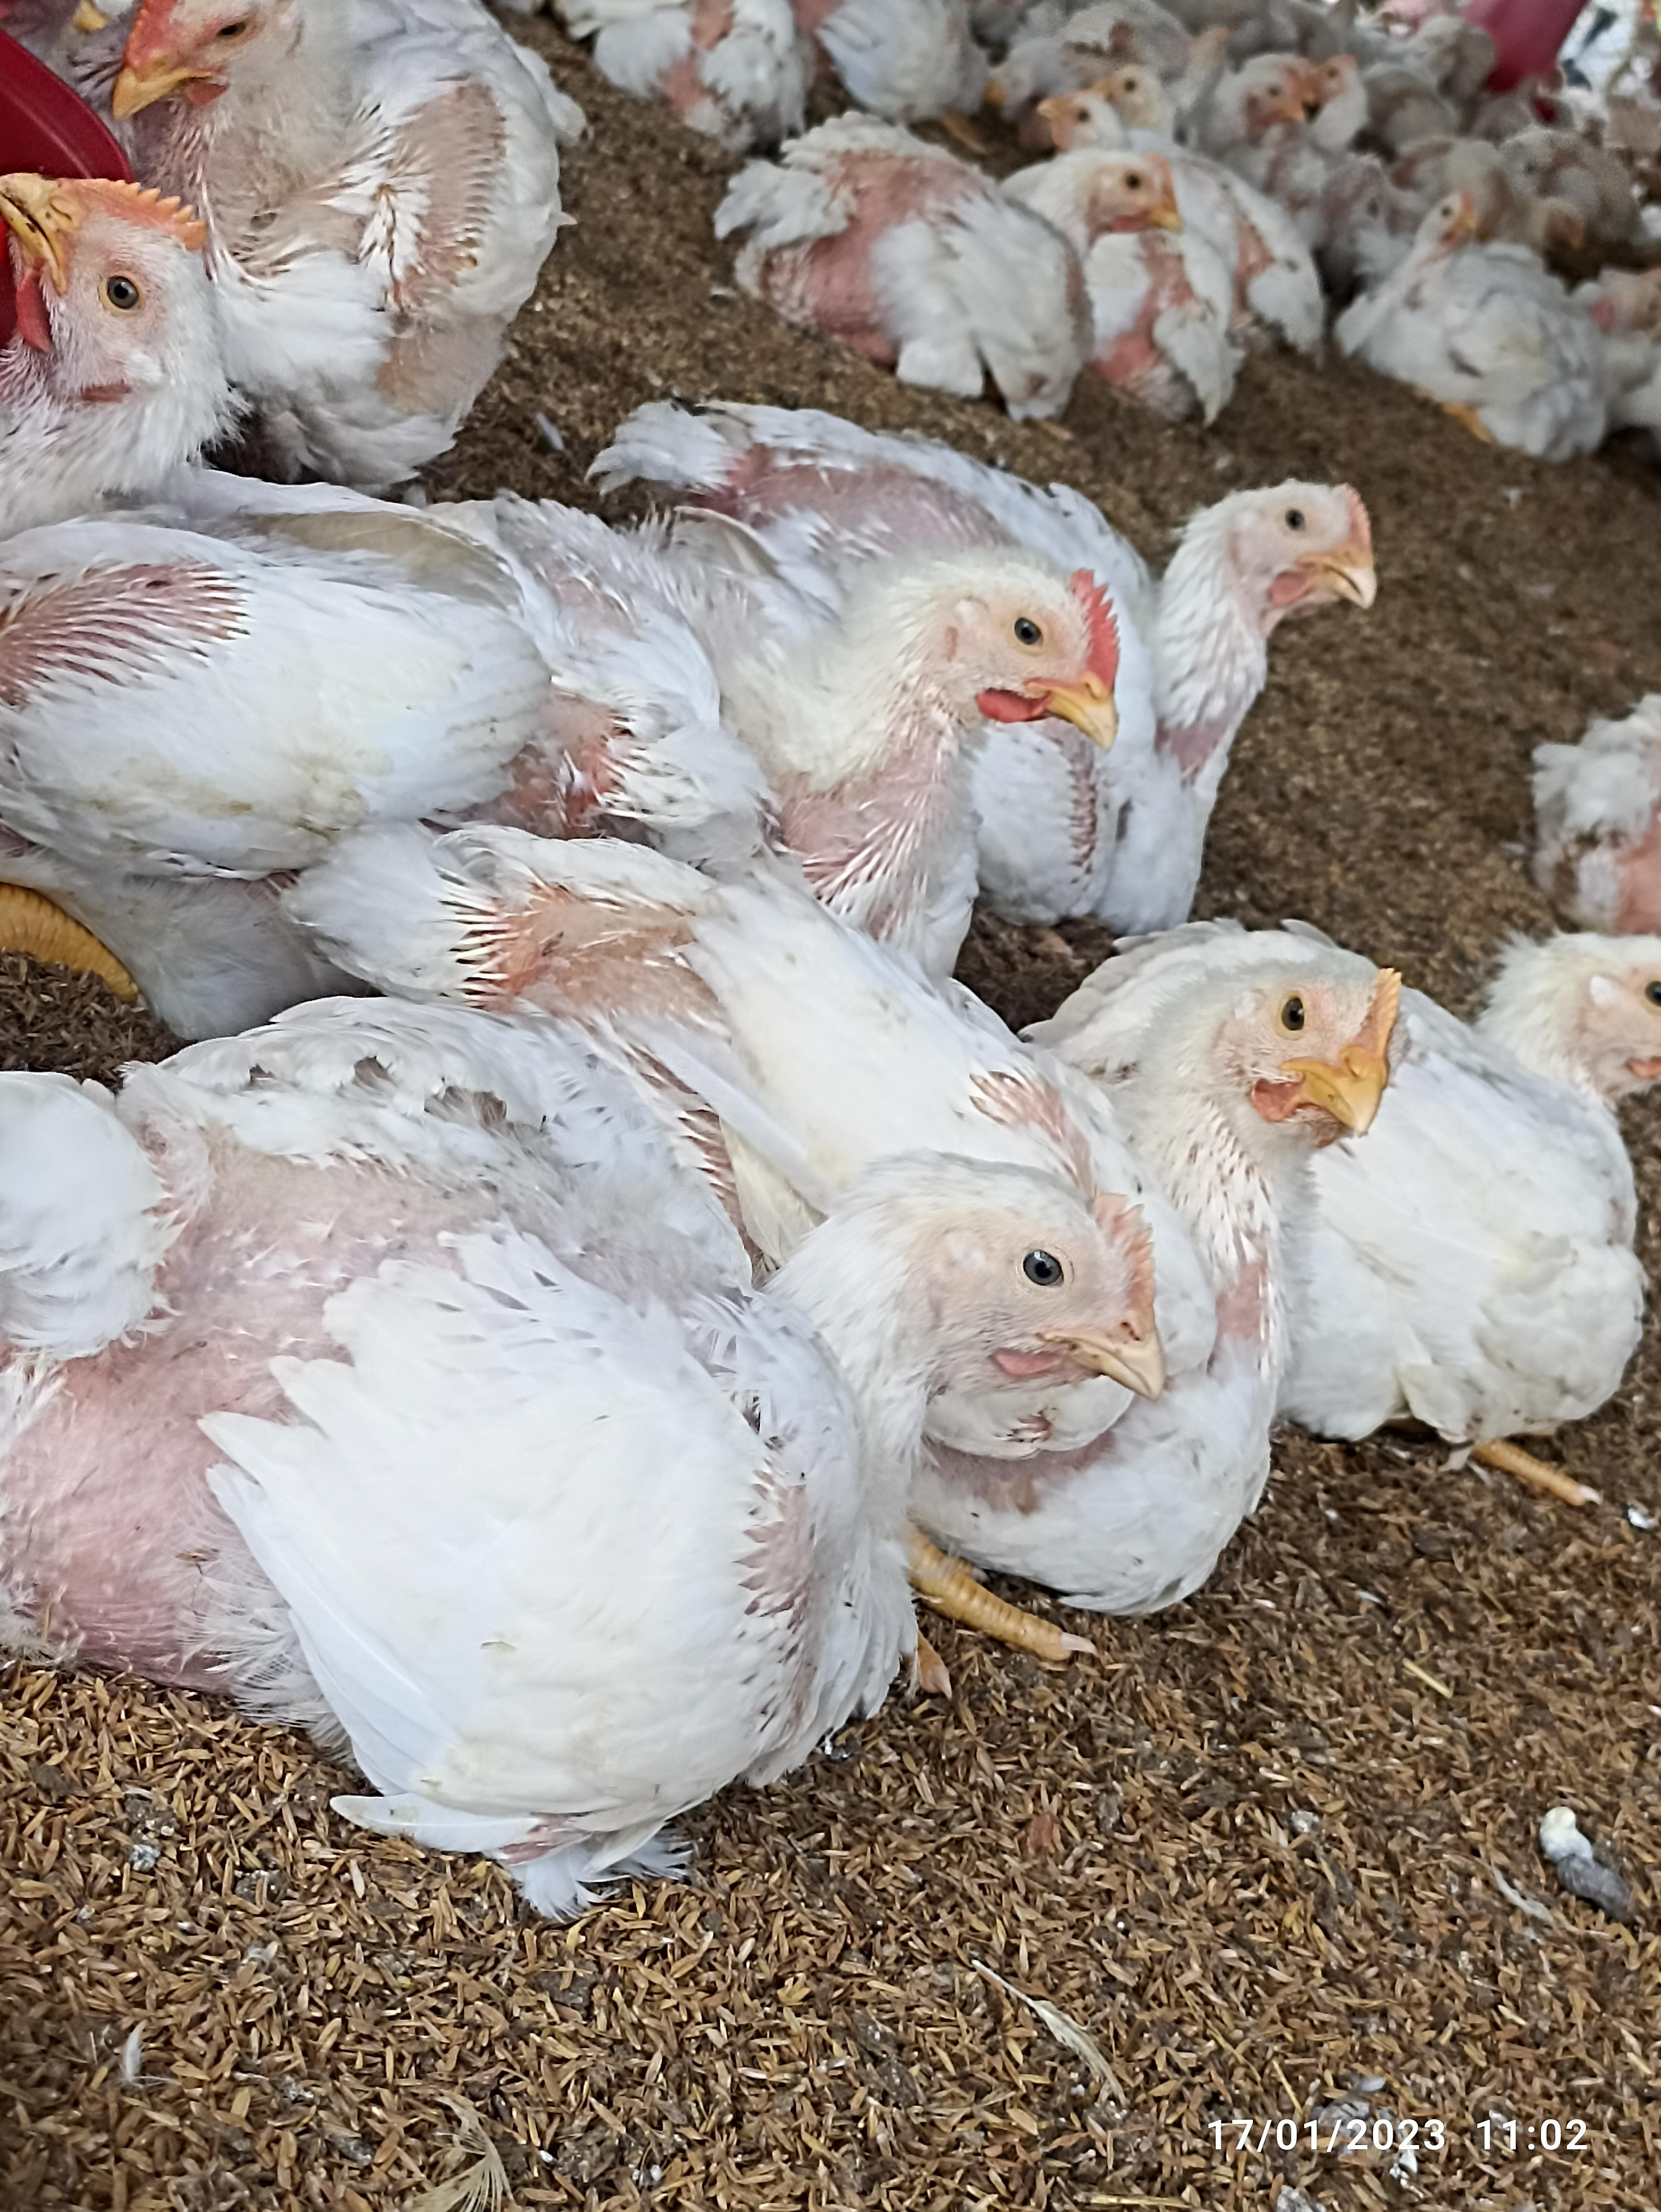Pollos: (5, 1008, 1162, 1840), (0, 188, 487, 832), (1136, 914, 1661, 1420), (103, 0, 518, 438), (646, 527, 1115, 907), (1145, 462, 1378, 900), (775, 145, 1165, 394), (1354, 188, 1635, 448)
